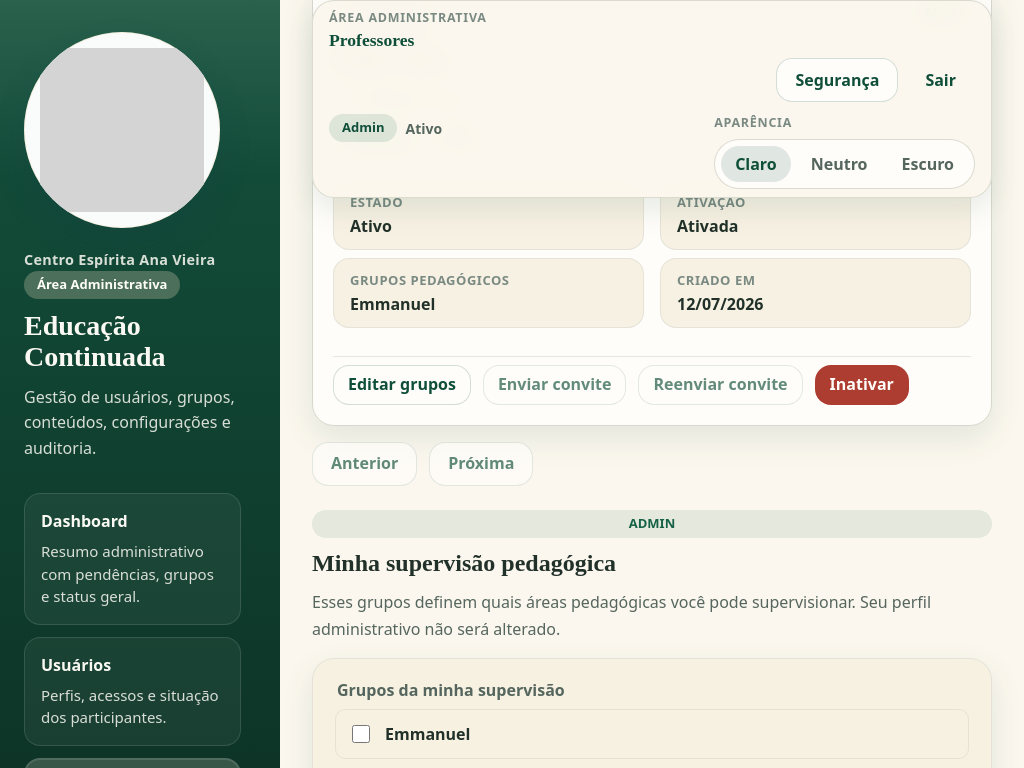
AdminTeachersPage › edita vínculos pedagógicos pelo contrato de pedagogical-groups
(page scrolled)
Check: the heading "Profa. Clara" is shown, box [333, 47, 448, 71]
What coordinates should you click on to do the following:
click the button with aria-label "Editar grupos de Profa. Clara"
I would click on:
 (402, 384)
Its box is [333, 364, 471, 404].
(page scrolled)
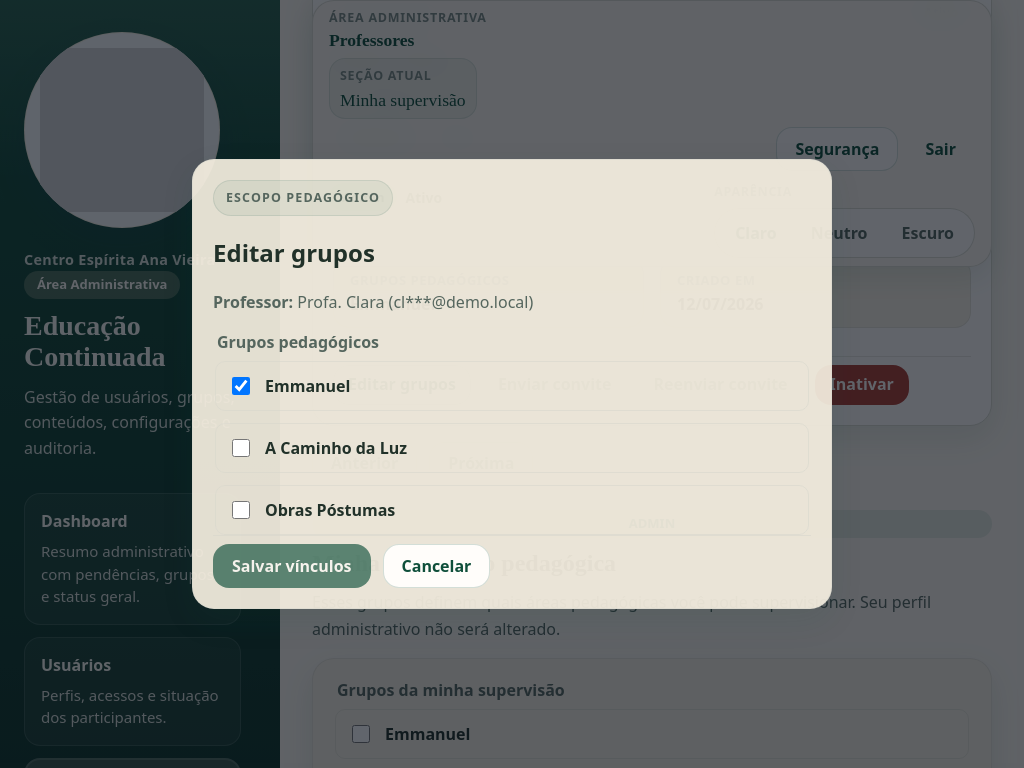
What coordinates should you click on to do the following:
click the checkbox labelled "Obras Póstumas"
I would click on:
 (241, 510)
Its box is [232, 501, 250, 519].
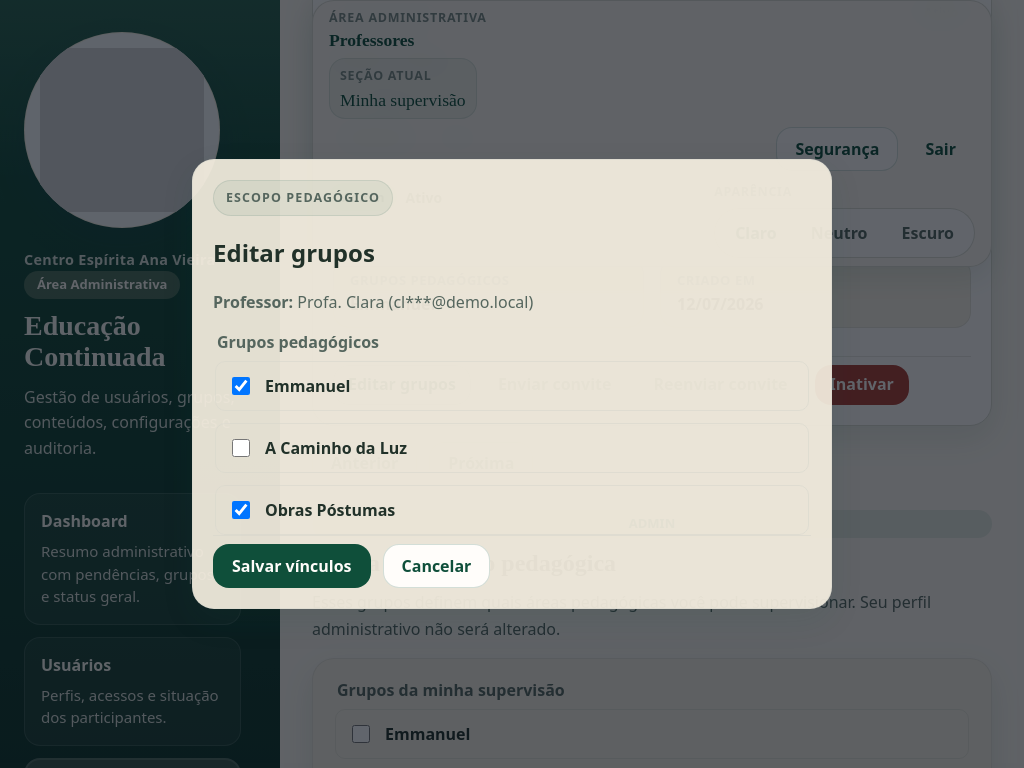
What coordinates should you click on to do the following:
click the button "Salvar vínculos"
I would click on:
 (292, 566)
Its box is [213, 544, 370, 588].
(page scrolled)
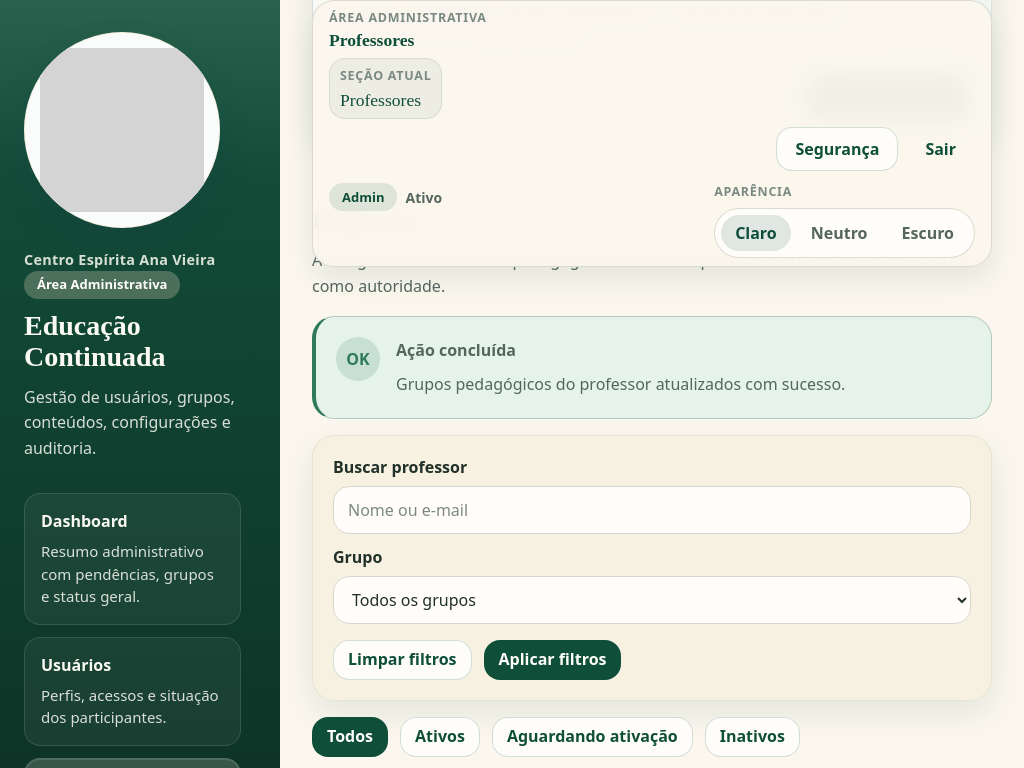
Check: the text "Grupos pedagógicos do professor atualizados com sucesso." is shown, box [396, 373, 845, 395]
